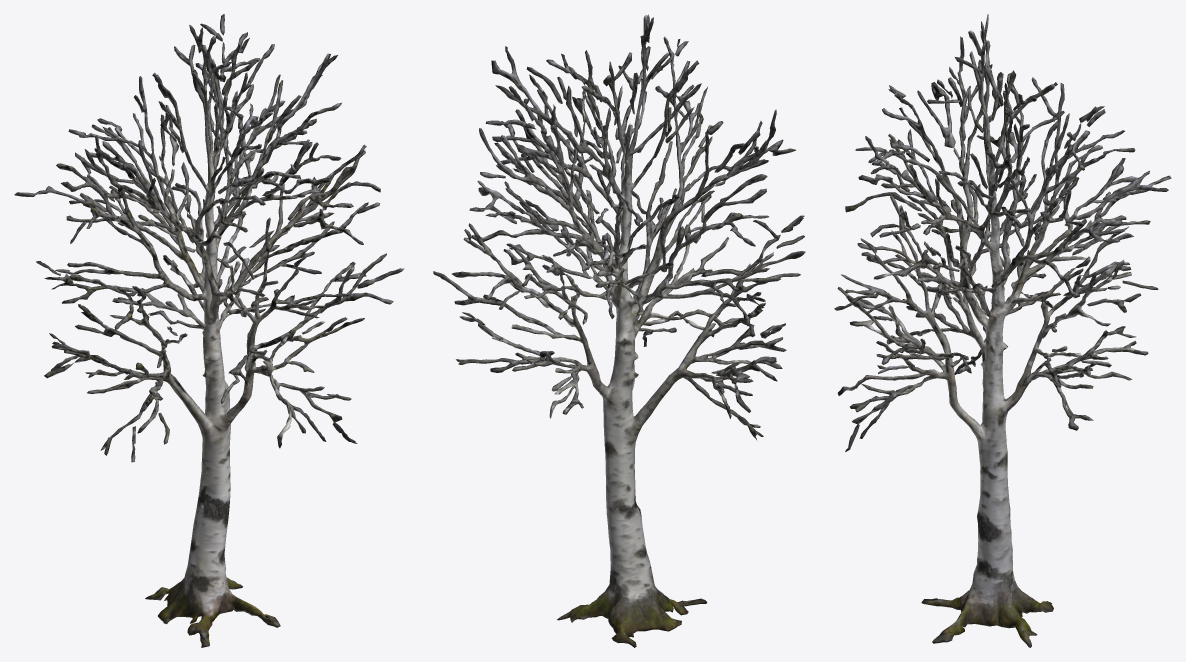
File: AI_WhiteBirch05.fbx
The picture shows the model from 3 angles, left to right: view 1: azimuth 30°, elevation 25°; view 2: azimuth 150°, elevation 25°; view 3: azimuth 270°, elevation 25°; orthographic projection.
Visible parts, largest first — view 1: Mesh1.0; view 2: Mesh1.0; view 3: Mesh1.0.
Boxes of the visible parts, x1=… form: Mesh1.0: x1=14, y1=14, x2=404, y2=647; Mesh1.0: x1=433, y1=14, x2=805, y2=647; Mesh1.0: x1=834, y1=14, x2=1171, y2=647.
Bounding box in the file's own units: 111 × 199 × 102.
Materials: 1 (1 with a texture image).
